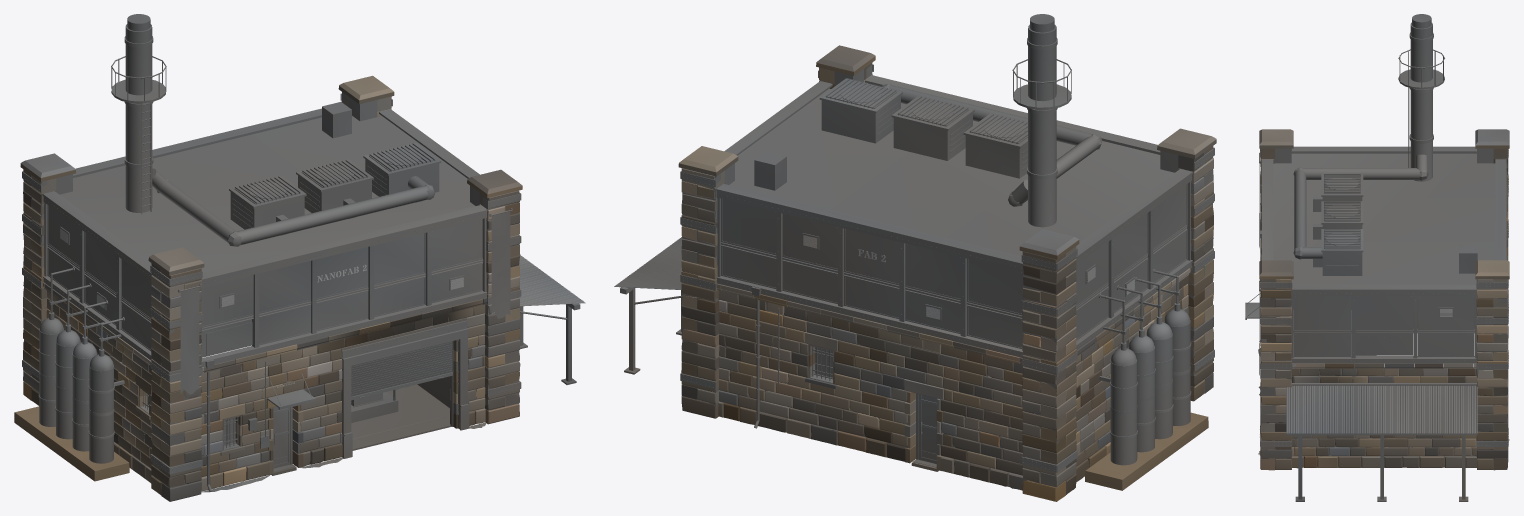
The model's file is Nanofab2_LOD0.glb.
3 views of the same model, side by side, from view 1: azimuth 30°, elevation 25°; view 2: azimuth 150°, elevation 25°; view 3: azimuth 270°, elevation 25° (orthographic). The views are drawn at different scales.
Visible parts, largest first — view 1: Nanofab2_Metal_LOD0, Nanofab2_Masonry_LOD0, Nanofab2_Roof_LOD0, Nanofab2_Trim_LOD0, Nanofab2_Interior_LOD0, Nanofab2_Canvas_LOD0, Nanofab2_Porch_LOD0, Nanofab2_Glow_LOD0; view 2: Nanofab2_Metal_LOD0, Nanofab2_Masonry_LOD0, Nanofab2_Roof_LOD0, Nanofab2_Trim_LOD0, Nanofab2_Porch_LOD0, Nanofab2_Glow_LOD0; view 3: Nanofab2_Metal_LOD0, Nanofab2_Roof_LOD0, Nanofab2_Masonry_LOD0, Nanofab2_Trim_LOD0, Nanofab2_Glow_LOD0.
Part boxes in pixels (x1,y1,x2,y2): Nanofab2_Metal_LOD0: (22, 14, 580, 491); Nanofab2_Masonry_LOD0: (23, 92, 520, 501); Nanofab2_Roof_LOD0: (60, 116, 585, 306); Nanofab2_Trim_LOD0: (20, 75, 522, 475); Nanofab2_Interior_LOD0: (351, 376, 451, 450); Nanofab2_Canvas_LOD0: (180, 211, 510, 394); Nanofab2_Porch_LOD0: (14, 406, 296, 481); Nanofab2_Glow_LOD0: (48, 245, 483, 443); Nanofab2_Metal_LOD0: (620, 14, 1214, 472); Nanofab2_Masonry_LOD0: (681, 62, 1213, 501); Nanofab2_Roof_LOD0: (614, 88, 1174, 289); Nanofab2_Trim_LOD0: (678, 45, 1216, 470); Nanofab2_Porch_LOD0: (911, 412, 1208, 490); Nanofab2_Glow_LOD0: (721, 227, 1187, 317); Nanofab2_Metal_LOD0: (1245, 14, 1509, 501); Nanofab2_Roof_LOD0: (1273, 153, 1495, 433); Nanofab2_Masonry_LOD0: (1260, 148, 1508, 470); Nanofab2_Trim_LOD0: (1259, 129, 1509, 368); Nanofab2_Glow_LOD0: (1293, 330, 1474, 332).
Size of the model in its own units: 19.4 by 15.92 by 11.31.
